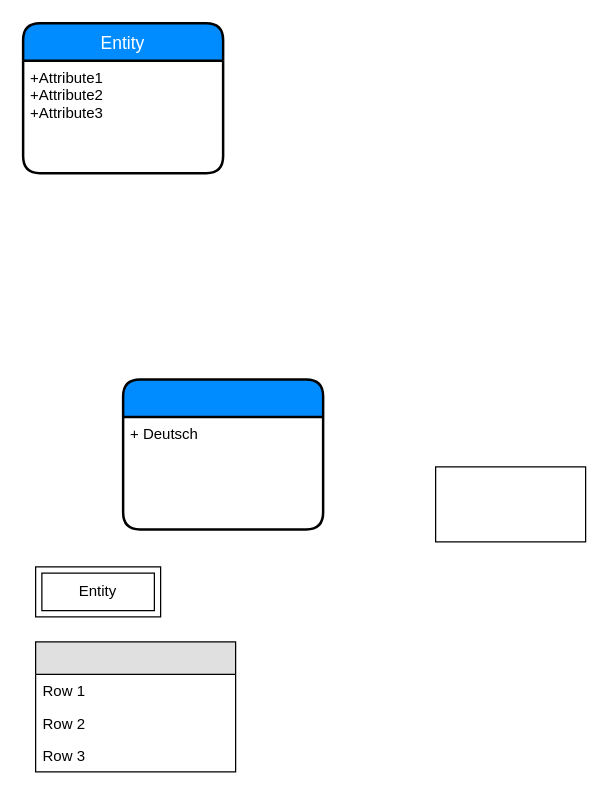
This 608x796 diagram has some shape labels left out. Each missing label, with the box of its shape:
Schüler: (121, 378, 324, 530)
Table: (34, 641, 236, 772)
